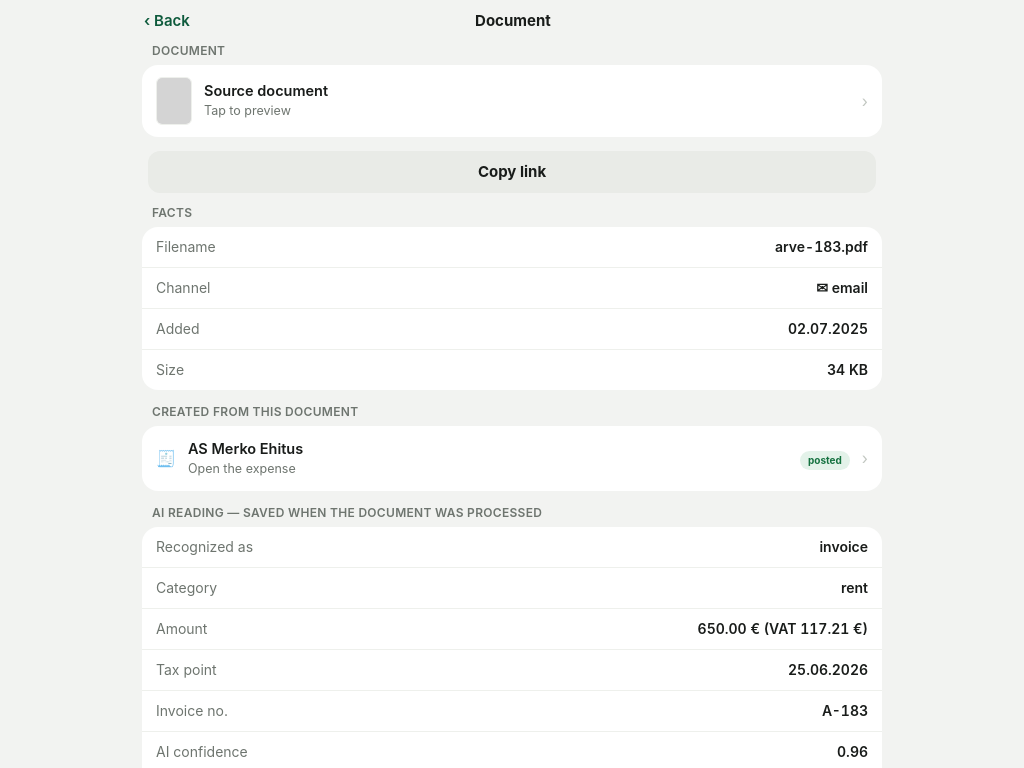
Test case: DocumentScreen › Copy link gives a success receipt
Click the button "Copy link" at point(512, 172), box [148,150,876,193]
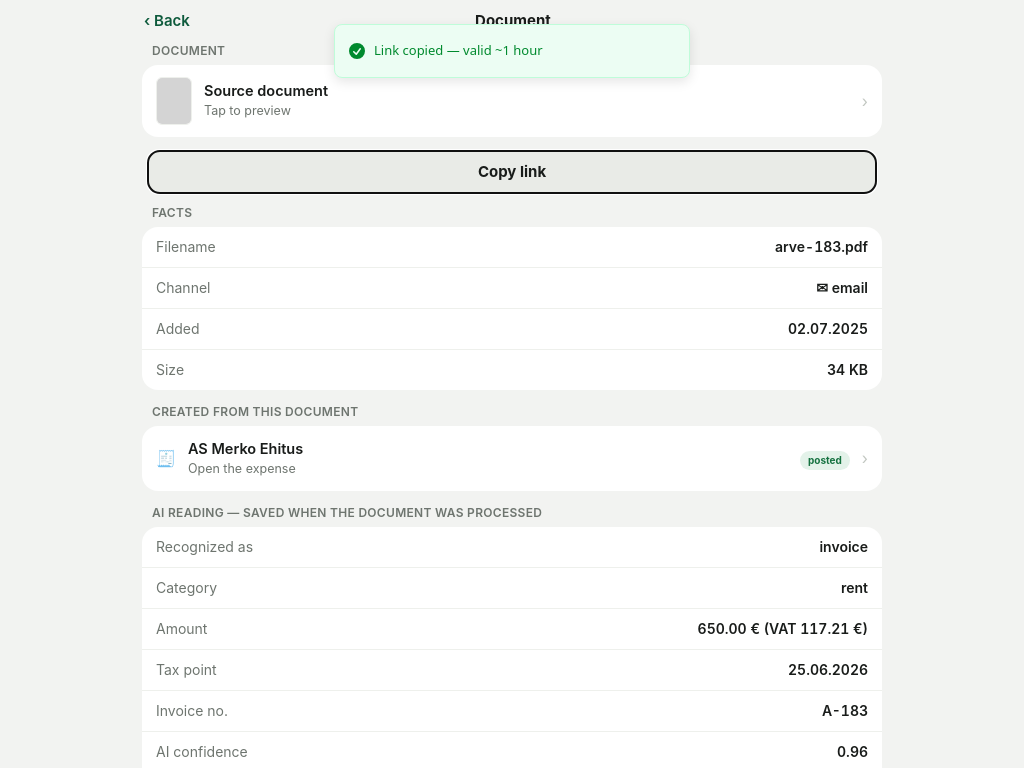
Check: the text "Link copied — valid ~1 hour" is shown, box [374,41,543,60]
